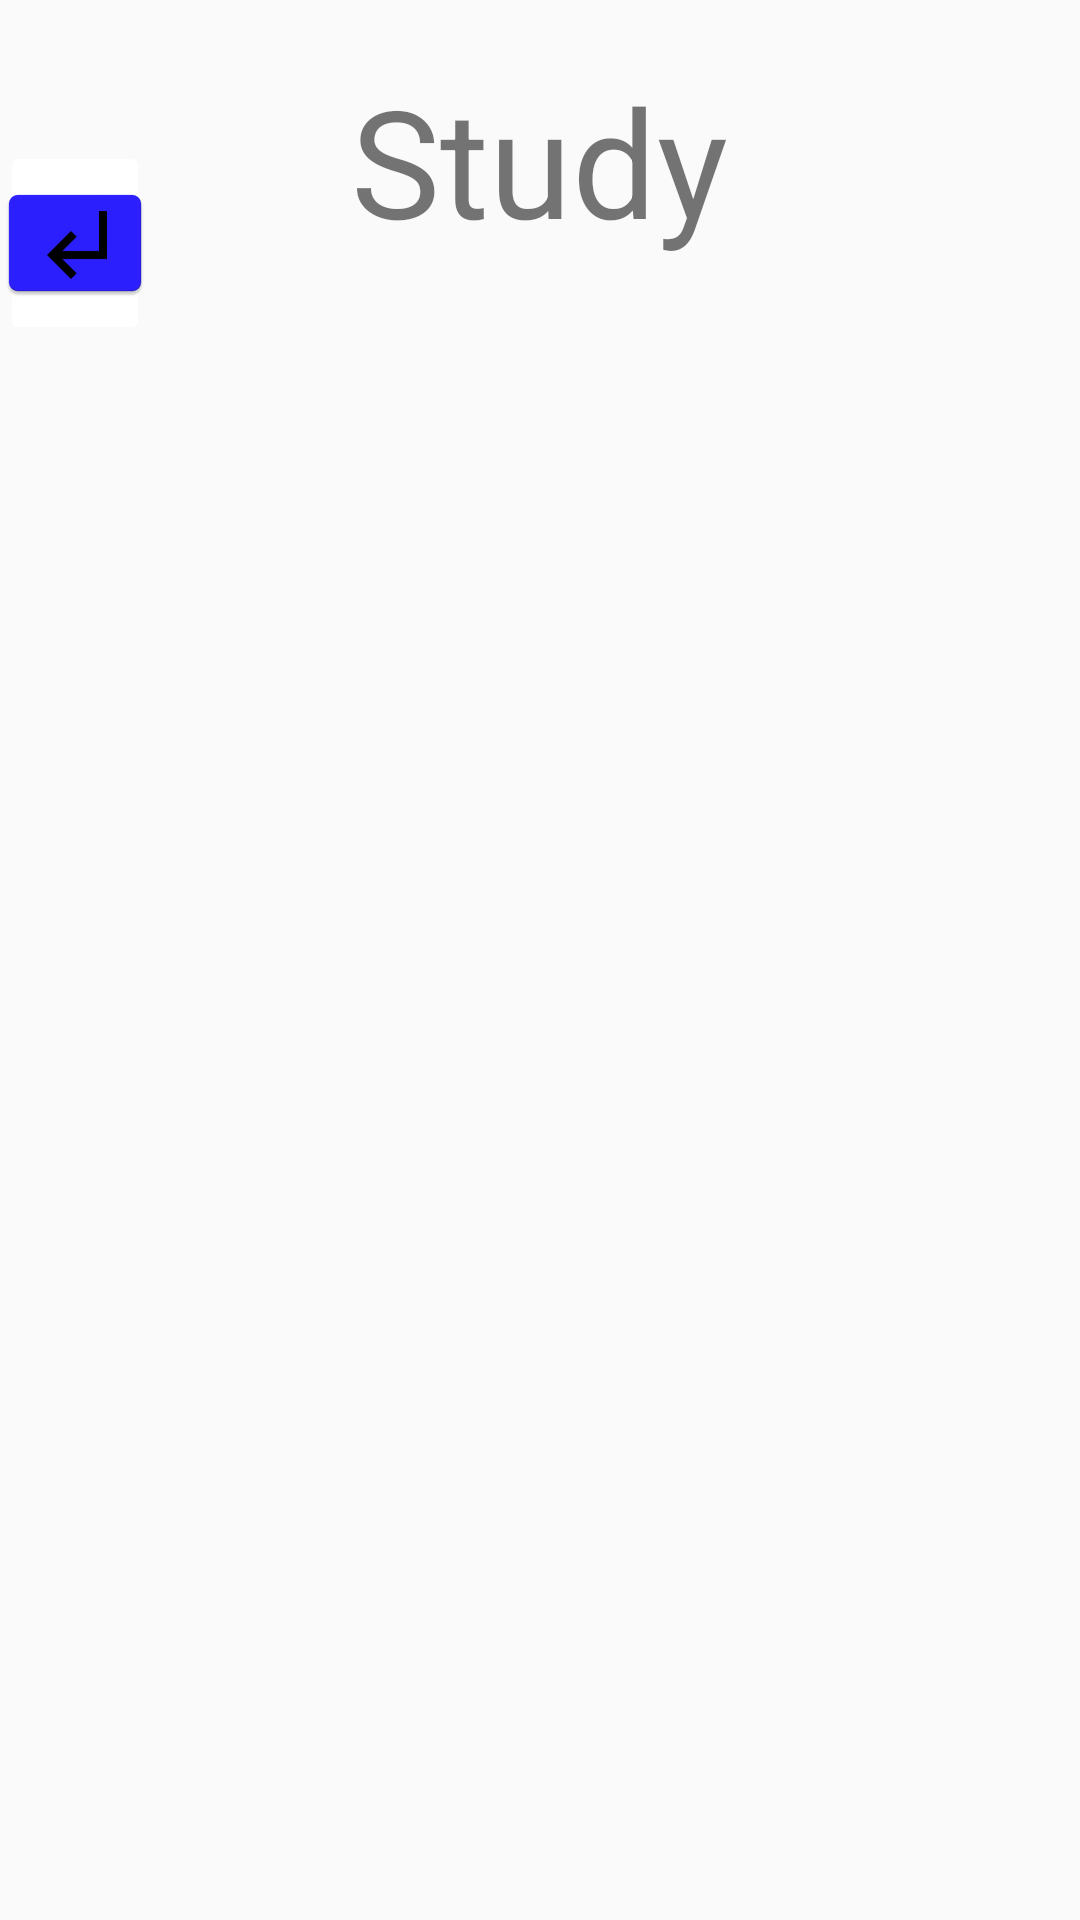

Point at icon controls on the screen. Image size 1080×1920, points as [x,y].
back: [75,244]
